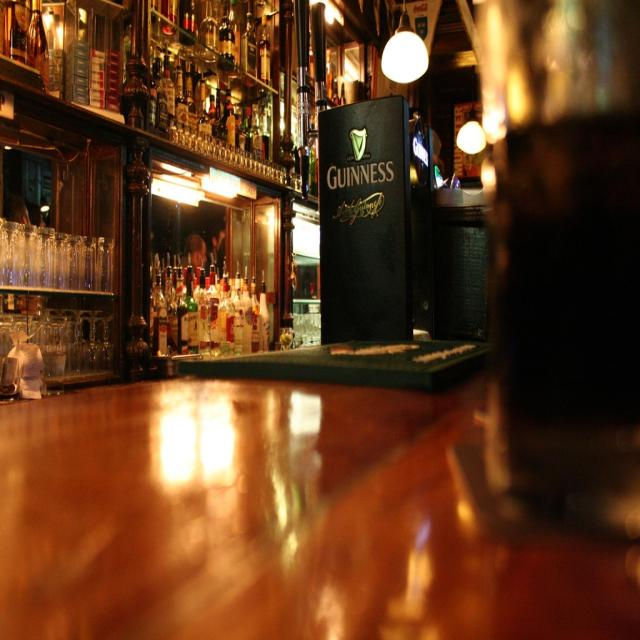guiness: (325, 126, 398, 193)
